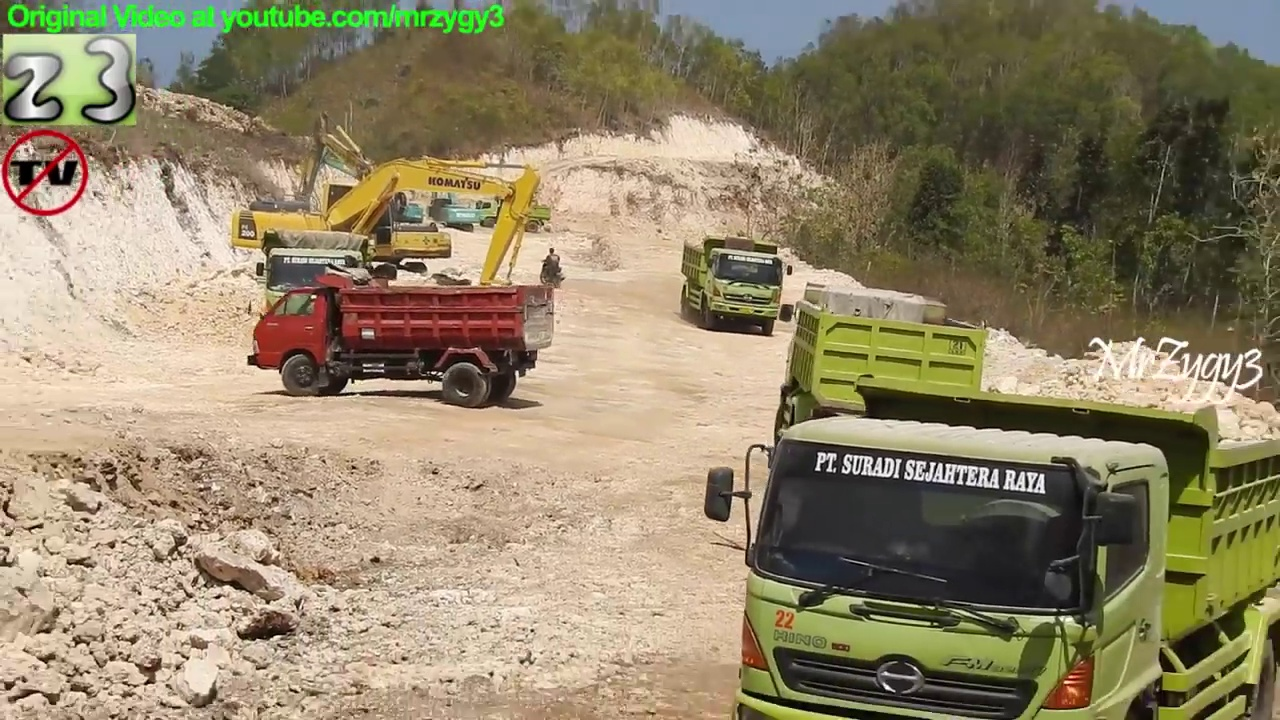excavator: (230, 152, 543, 336), (284, 113, 454, 282), (298, 136, 431, 247), (429, 158, 479, 234)
truck: (702, 374, 1277, 720), (769, 279, 992, 488), (247, 265, 558, 412), (251, 226, 384, 361), (675, 230, 796, 338), (472, 190, 551, 237)
